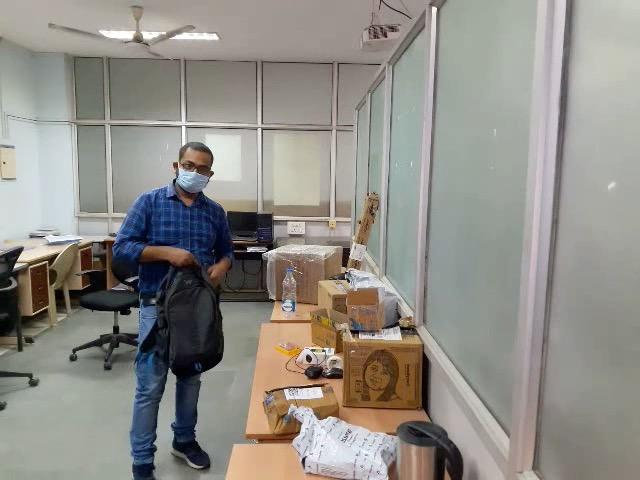shoplifting: (66, 226, 276, 430)
